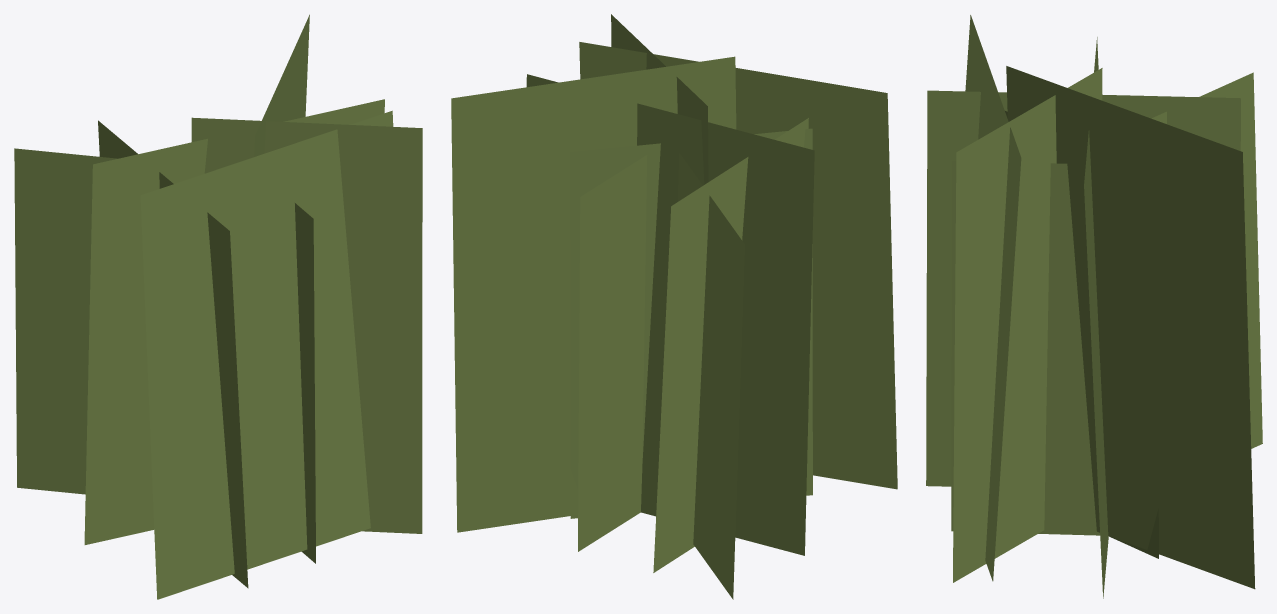
Rendered from bush-v1.lod1.glb.
3 renders of one model, left to right at view 1: azimuth 30°, elevation 25°; view 2: azimuth 150°, elevation 25°; view 3: azimuth 270°, elevation 25°, orthographic. The views are drawn at different scales.
Parts seen in each view (by area): view 1: bush-v1.lod1; view 2: bush-v1.lod1; view 3: bush-v1.lod1.
Part boxes in pixels (<box>): bush-v1.lod1: <box>14,14,422,599</box>; bush-v1.lod1: <box>451,14,897,599</box>; bush-v1.lod1: <box>926,15,1262,598</box>.
Size of the model in its own units: 1.31 by 1.75 by 1.2.
